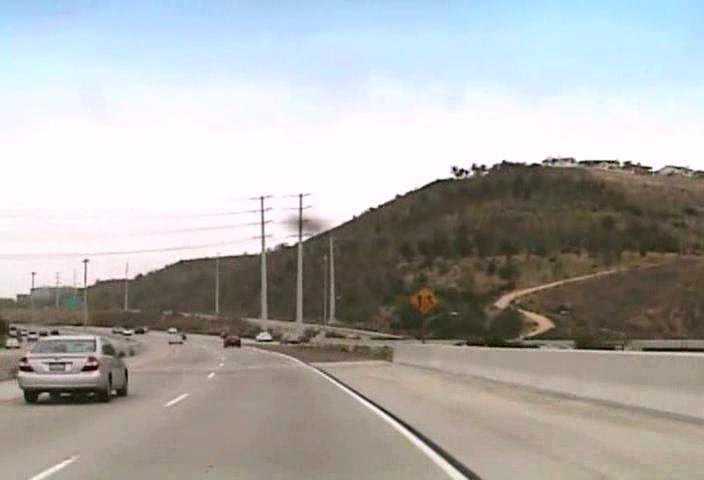addedLane: (407, 285, 439, 315)
